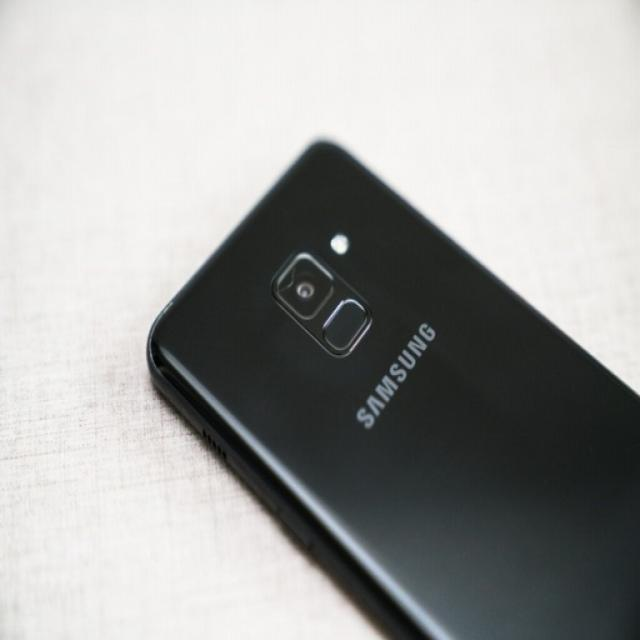lens: (262, 236, 381, 370)
phone: (145, 140, 640, 640)
